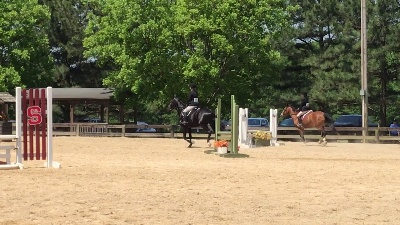jetta: (166, 95, 218, 149)
